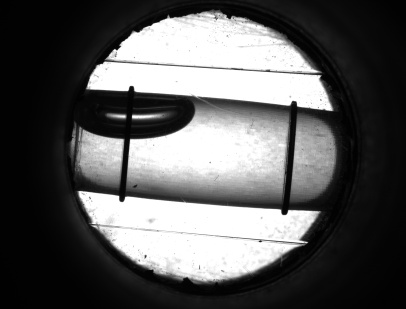line: (277, 119, 302, 196), (116, 145, 134, 183)
